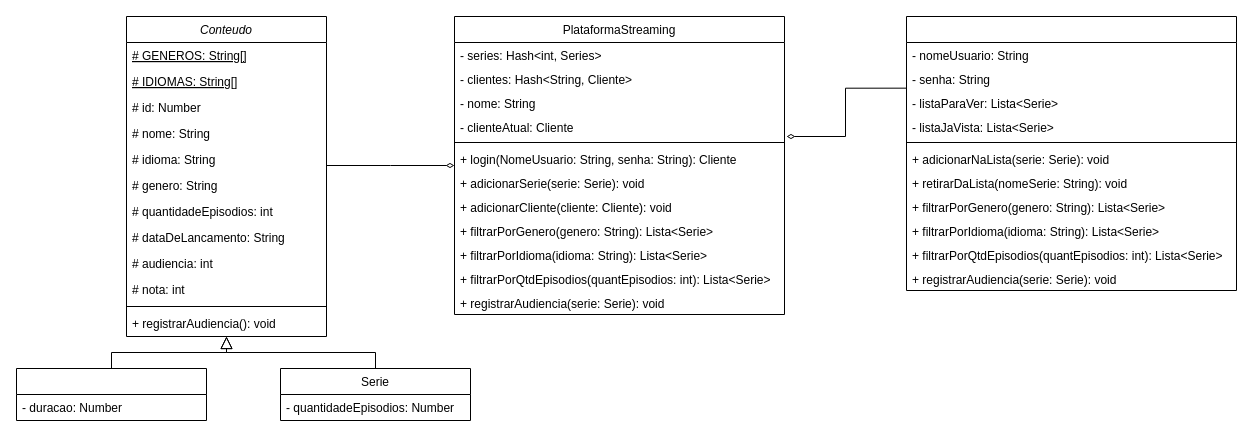
Image size: 1253x437. Some labels were removed from this diagram. The box of each missing label's shape, as (x1, y1, x2, y2) in pixels:
Cliente: (906, 16, 1236, 290)
FIlme: (16, 368, 206, 420)
